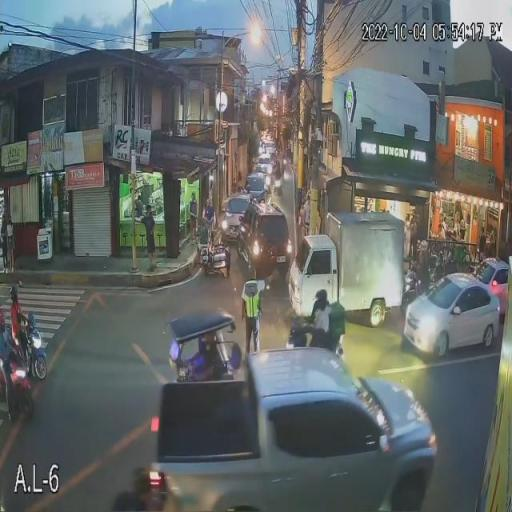helmet: (313, 287, 328, 304), (10, 284, 20, 304)
motorcycle: (1, 325, 50, 380), (289, 318, 347, 358)
rider: (9, 303, 27, 362), (309, 308, 329, 349)
